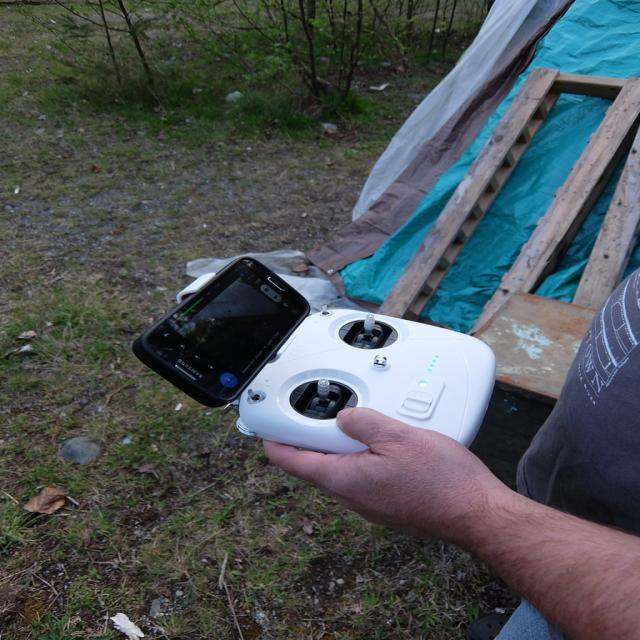Mobile phone: (130, 255, 312, 406)
